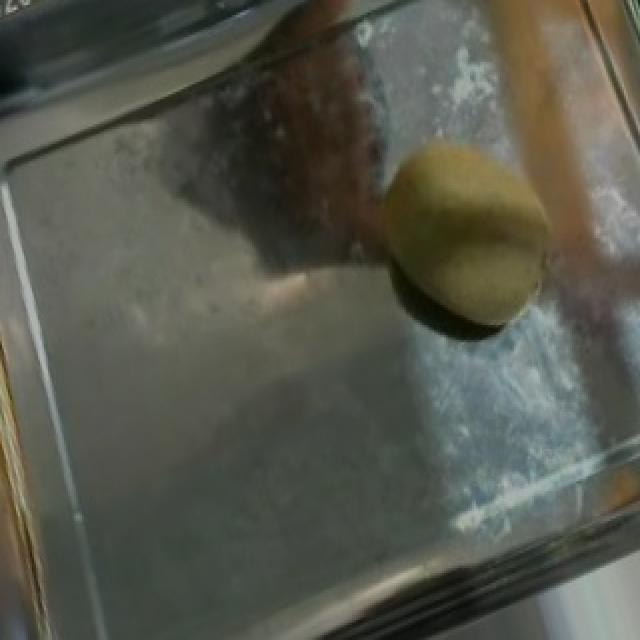Fruit: (336, 96, 628, 360)
